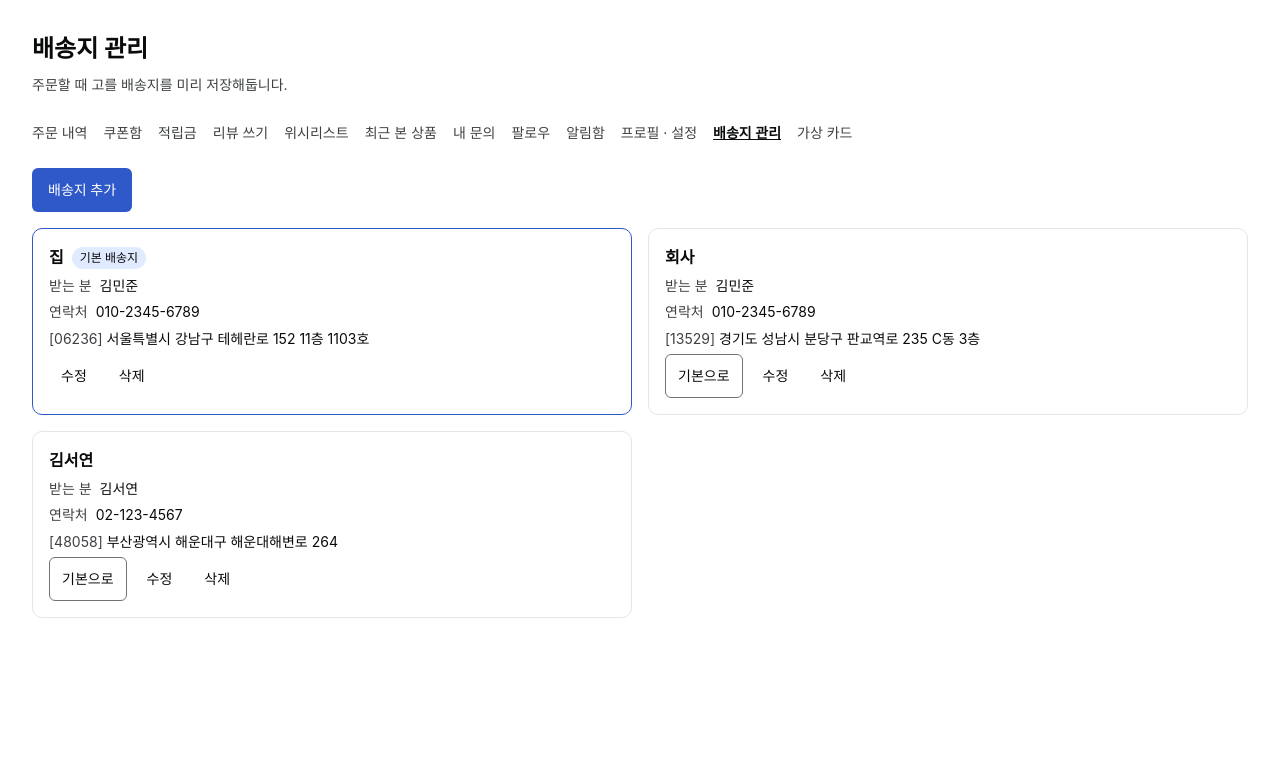
Test: adding an address (F3) › fills the postal code and road address from the widget, then moves focus (F6)
Expected: the list named "저장한 배송지" is shown, [32,228,1248,618]
Click the button "배송지 추가".
click(82, 190)  # box [32,168,132,212]
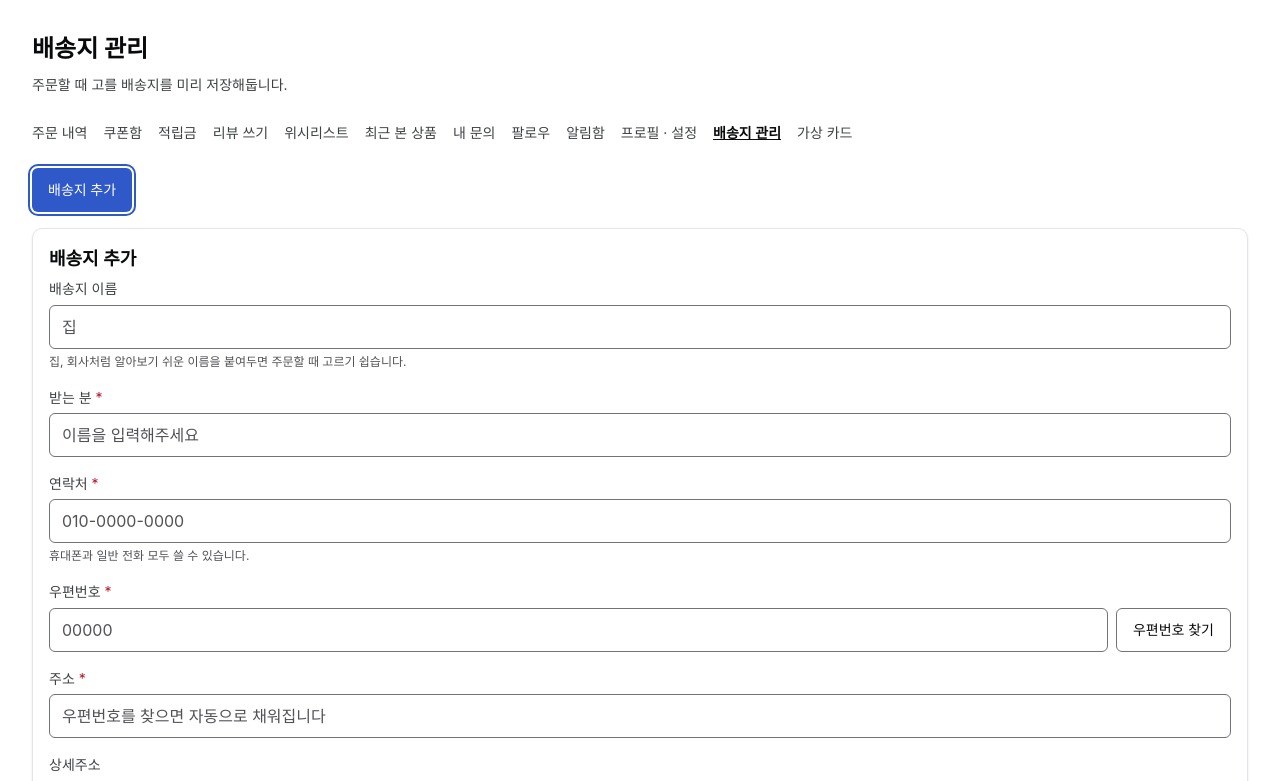
Click the button "우편번호 찾기".
click(1174, 630)  # box [1116,608,1231,652]
(page scrolled)
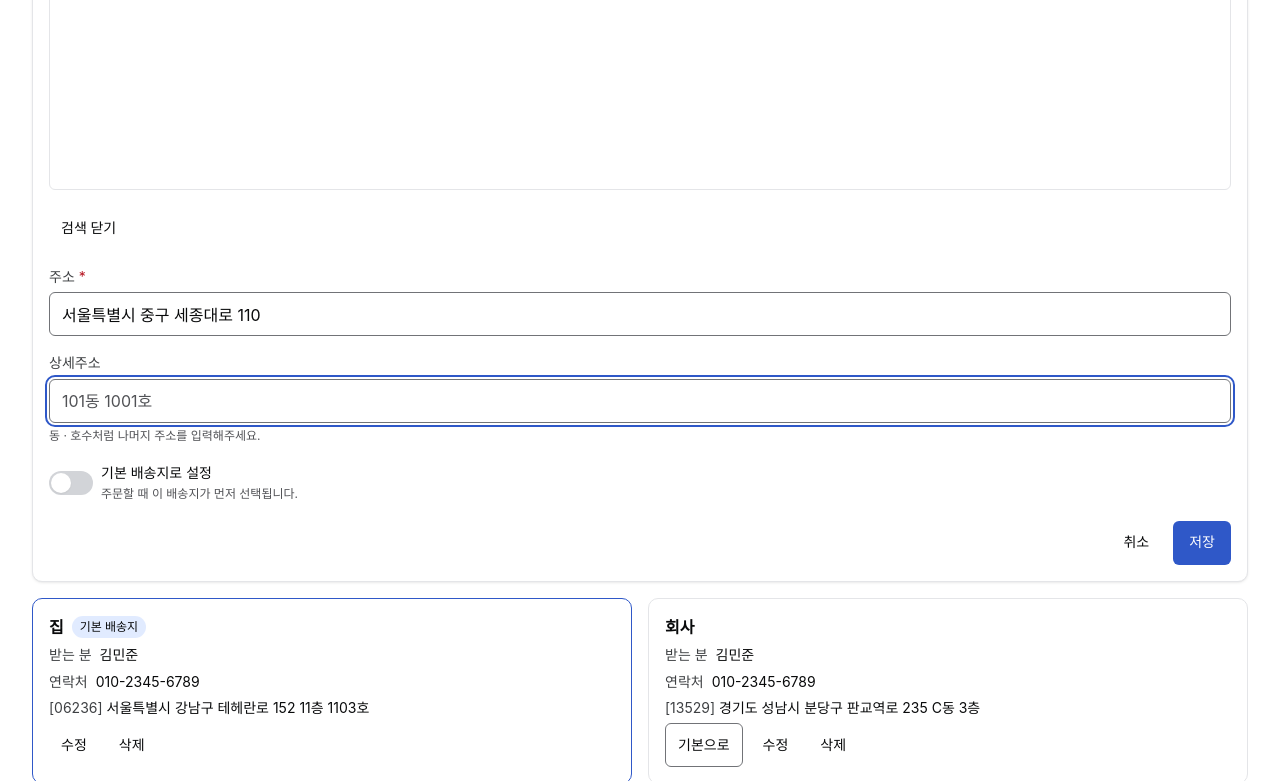
Expected: the field labelled "주소" holds "서울특별시 중구 세종대로 110", [49,292,1231,336]
